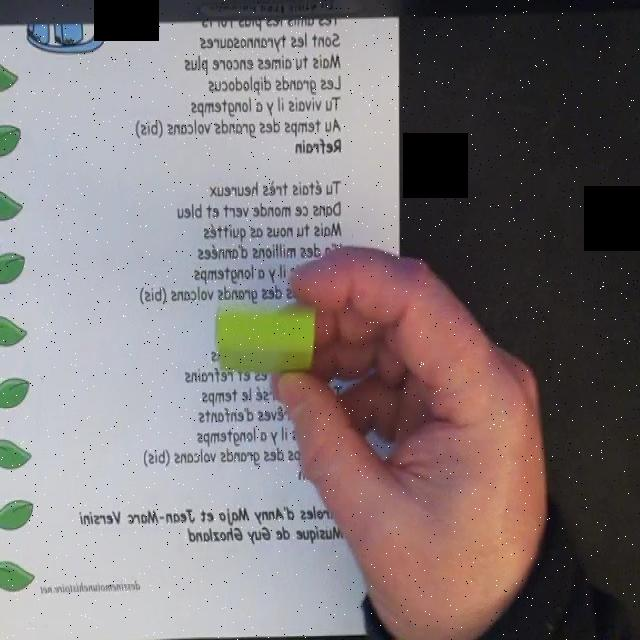square: (215, 305, 318, 376)
